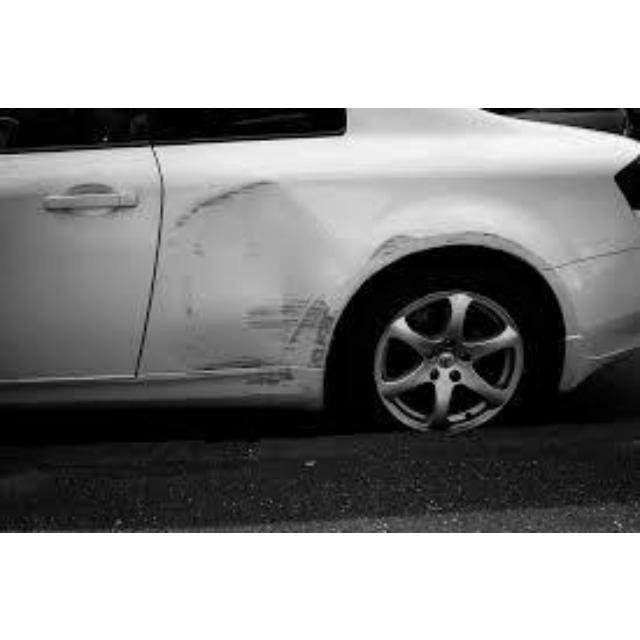quaterpanel-dent: (163, 166, 612, 291)
